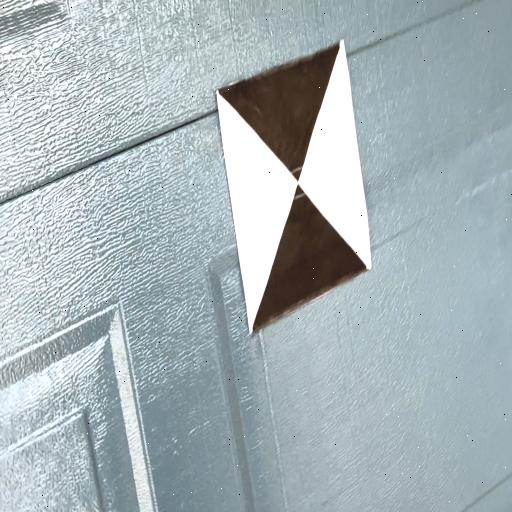target: (215, 39, 372, 337)
